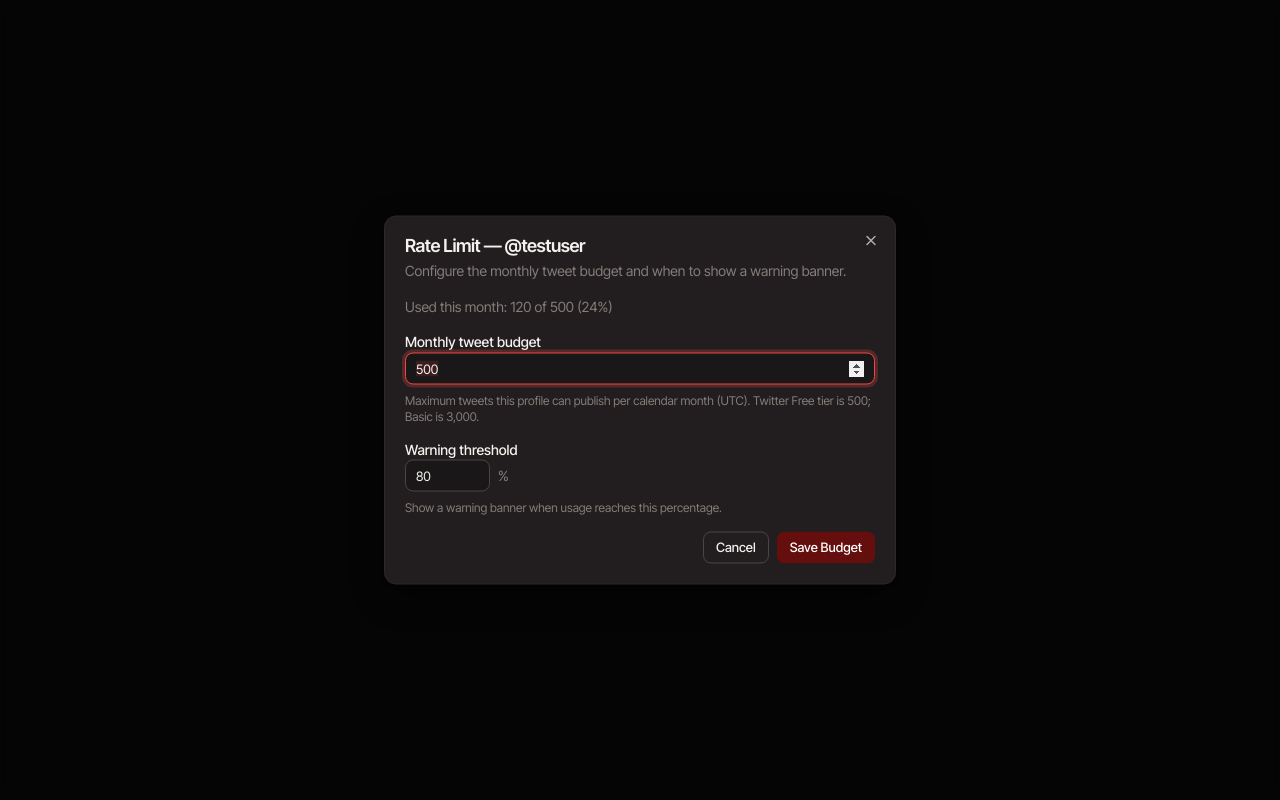
RateLimitSettingsDialog › shows a validation error for budget value 0
Expected: the text "Used this month: 120 of 500 (24%)" is shown, [405, 298, 613, 314]
Replace the text in the number field labelled "Monthly tweet budget" with "0": (640, 368) [405, 352, 875, 384]
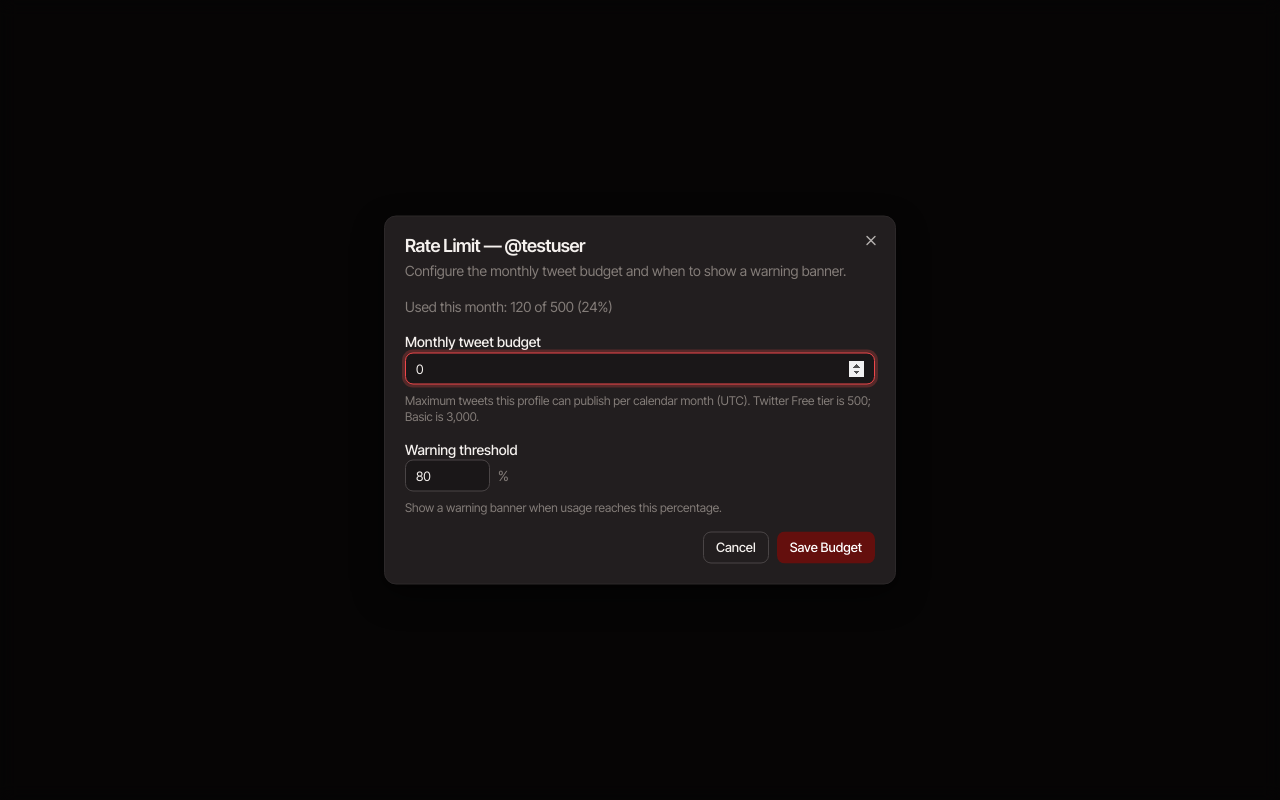
Click the button "Save Budget": (826, 548) [777, 532, 875, 564]
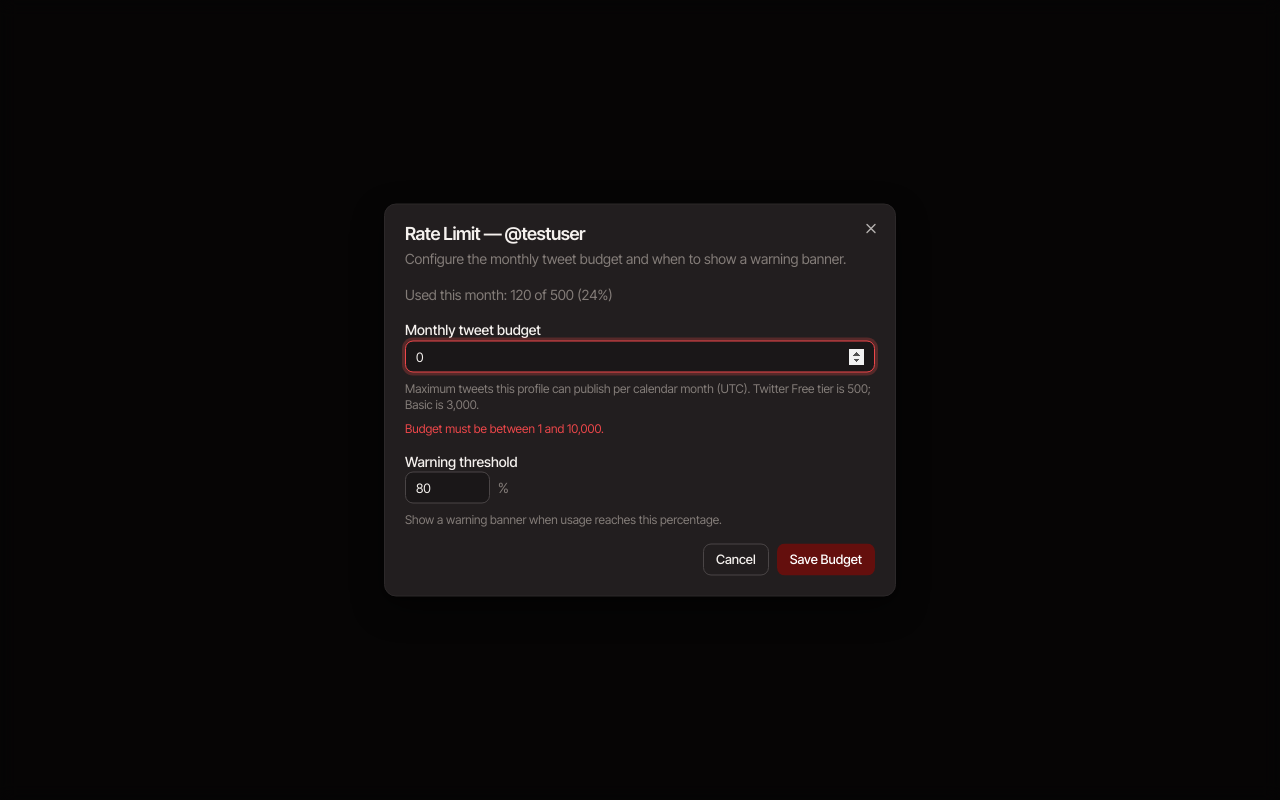
Expected: the text "Budget must be between 1 and 10,000." is shown, [405, 420, 604, 435]
